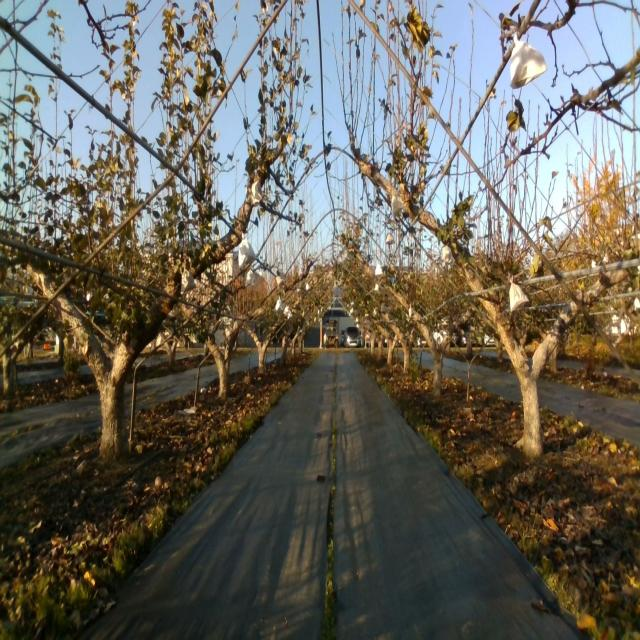pearbags: (510, 28, 548, 90), (509, 276, 529, 314), (239, 227, 257, 268), (180, 267, 197, 294), (250, 177, 264, 206), (390, 189, 404, 213), (441, 245, 454, 265)
